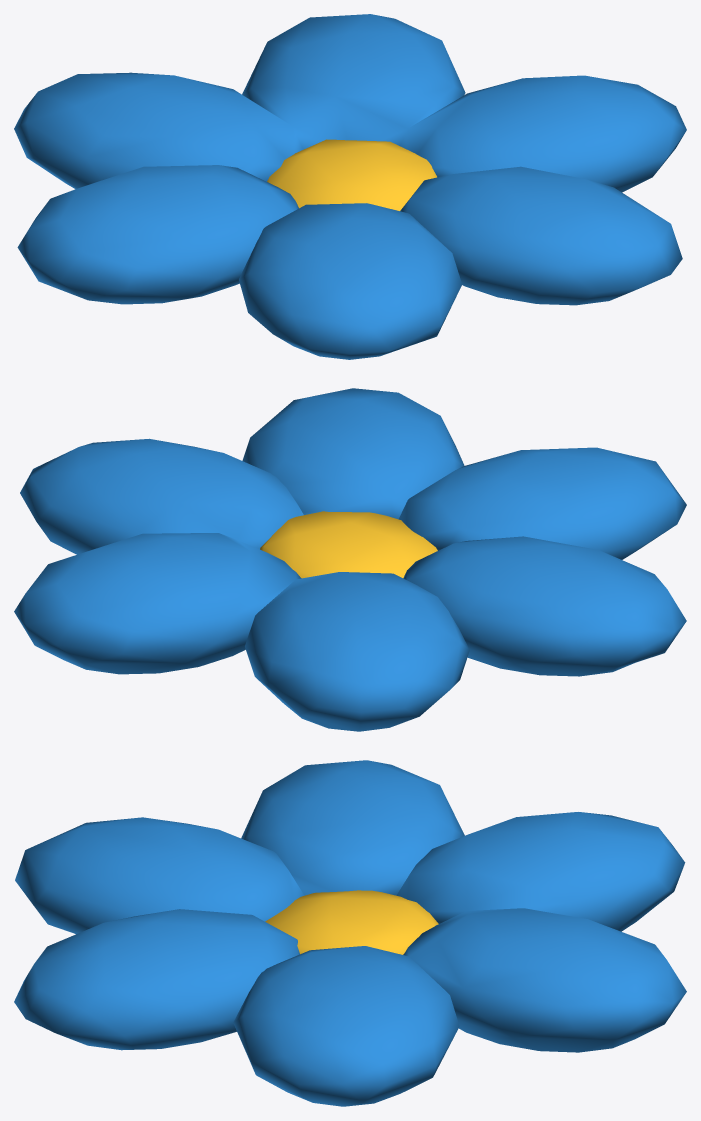
Rendered from Flover_02.fbx.
The picture shows the model from 3 angles, top to bottom: view 1: azimuth 30°, elevation 25°; view 2: azimuth 150°, elevation 25°; view 3: azimuth 270°, elevation 25°; orthographic projection.
Visible parts, largest first — view 1: Flover_02; view 2: Flover_02; view 3: Flover_02.
Boxes of the visible parts, x1,y1,x2,y2 form: Flover_02: [14, 14, 686, 359]; Flover_02: [14, 388, 686, 731]; Flover_02: [14, 760, 686, 1106].
Size of the model in its own units: 16.32 by 2.01 by 14.63.
